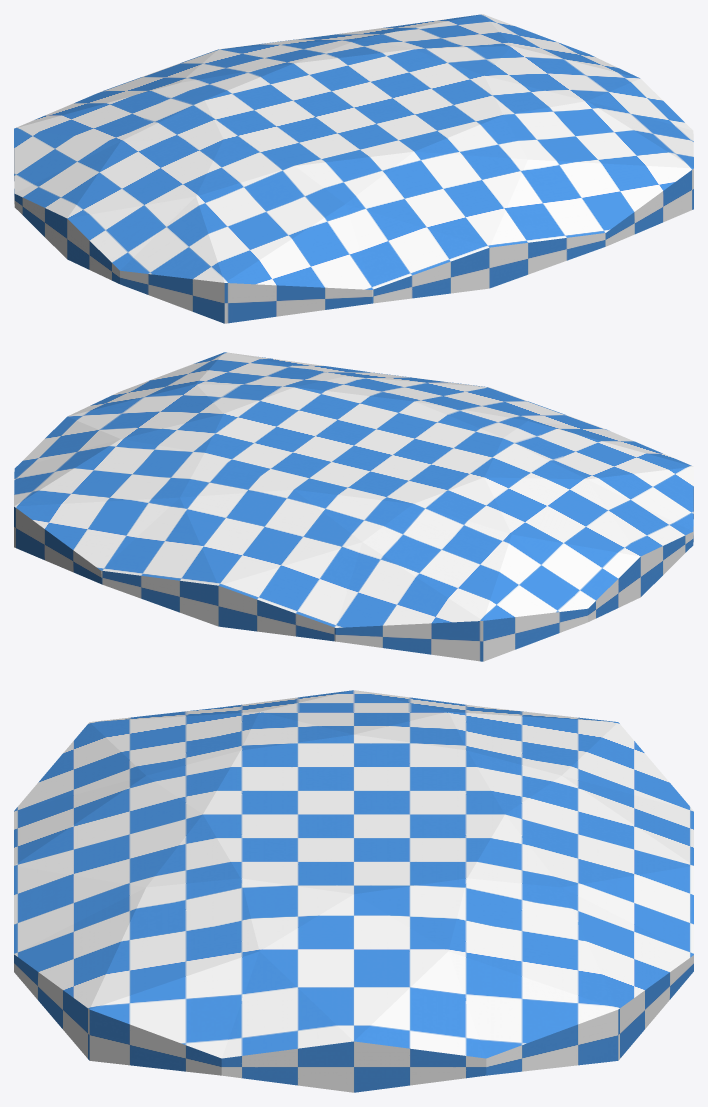
The model's file is OvalCutDouble.FBX.
3 views of the same model, one above another, from view 1: azimuth 30°, elevation 25°; view 2: azimuth 150°, elevation 25°; view 3: azimuth 270°, elevation 25° (orthographic). The views are drawn at different scales.
Visible parts, largest first — view 1: OvalCutDouble; view 2: OvalCutDouble; view 3: OvalCutDouble.
Part boxes in pixels (bbox=[...]): OvalCutDouble: bbox=[14, 14, 693, 323]; OvalCutDouble: bbox=[14, 352, 693, 661]; OvalCutDouble: bbox=[14, 690, 693, 1092].
Size of the model in its own units: 1.4 by 0.2858 by 1.14.
